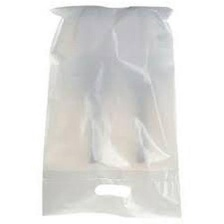plastic_bag: (36, 2, 184, 220)
